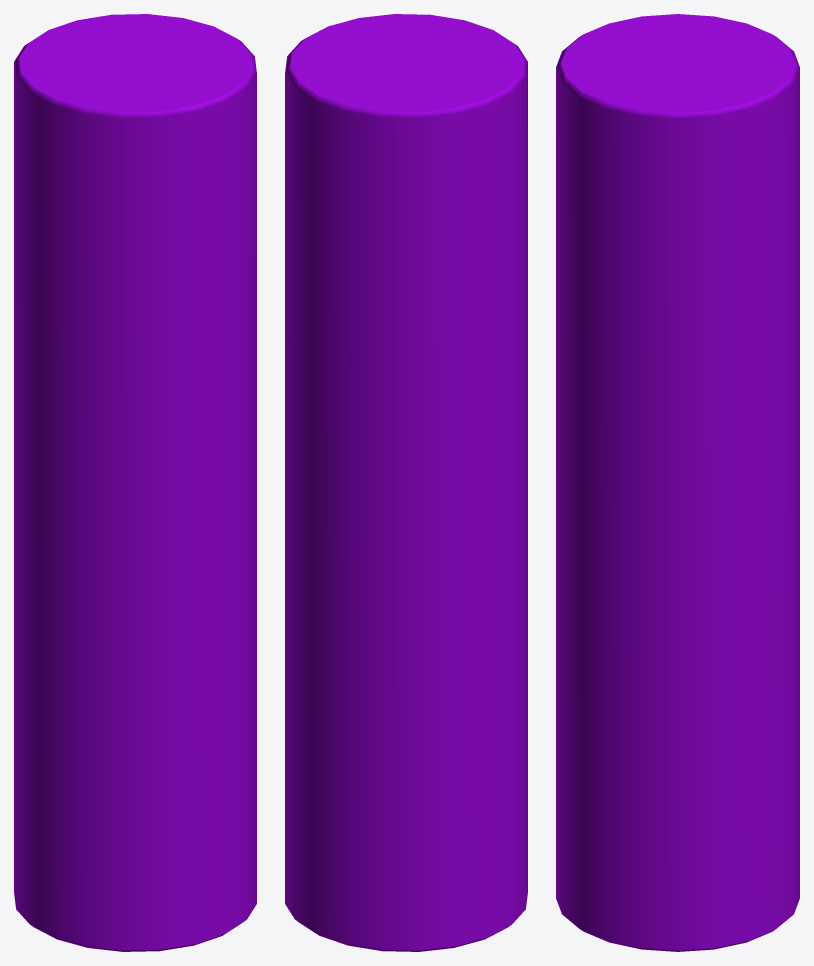
File: Wood_Toy_03.fbx
The picture shows the model from 3 angles, left to right: view 1: azimuth 30°, elevation 25°; view 2: azimuth 150°, elevation 25°; view 3: azimuth 270°, elevation 25°; orthographic projection.
Visible parts, largest first — view 1: Wood_Toy_03; view 2: Wood_Toy_03; view 3: Wood_Toy_03.
Part boxes in pixels (x1,y1,x2,y2): Wood_Toy_03: [14, 14, 256, 951]; Wood_Toy_03: [285, 14, 527, 951]; Wood_Toy_03: [556, 14, 799, 951].
Size of the model in its own units: 26.7 by 101 by 26.7.
